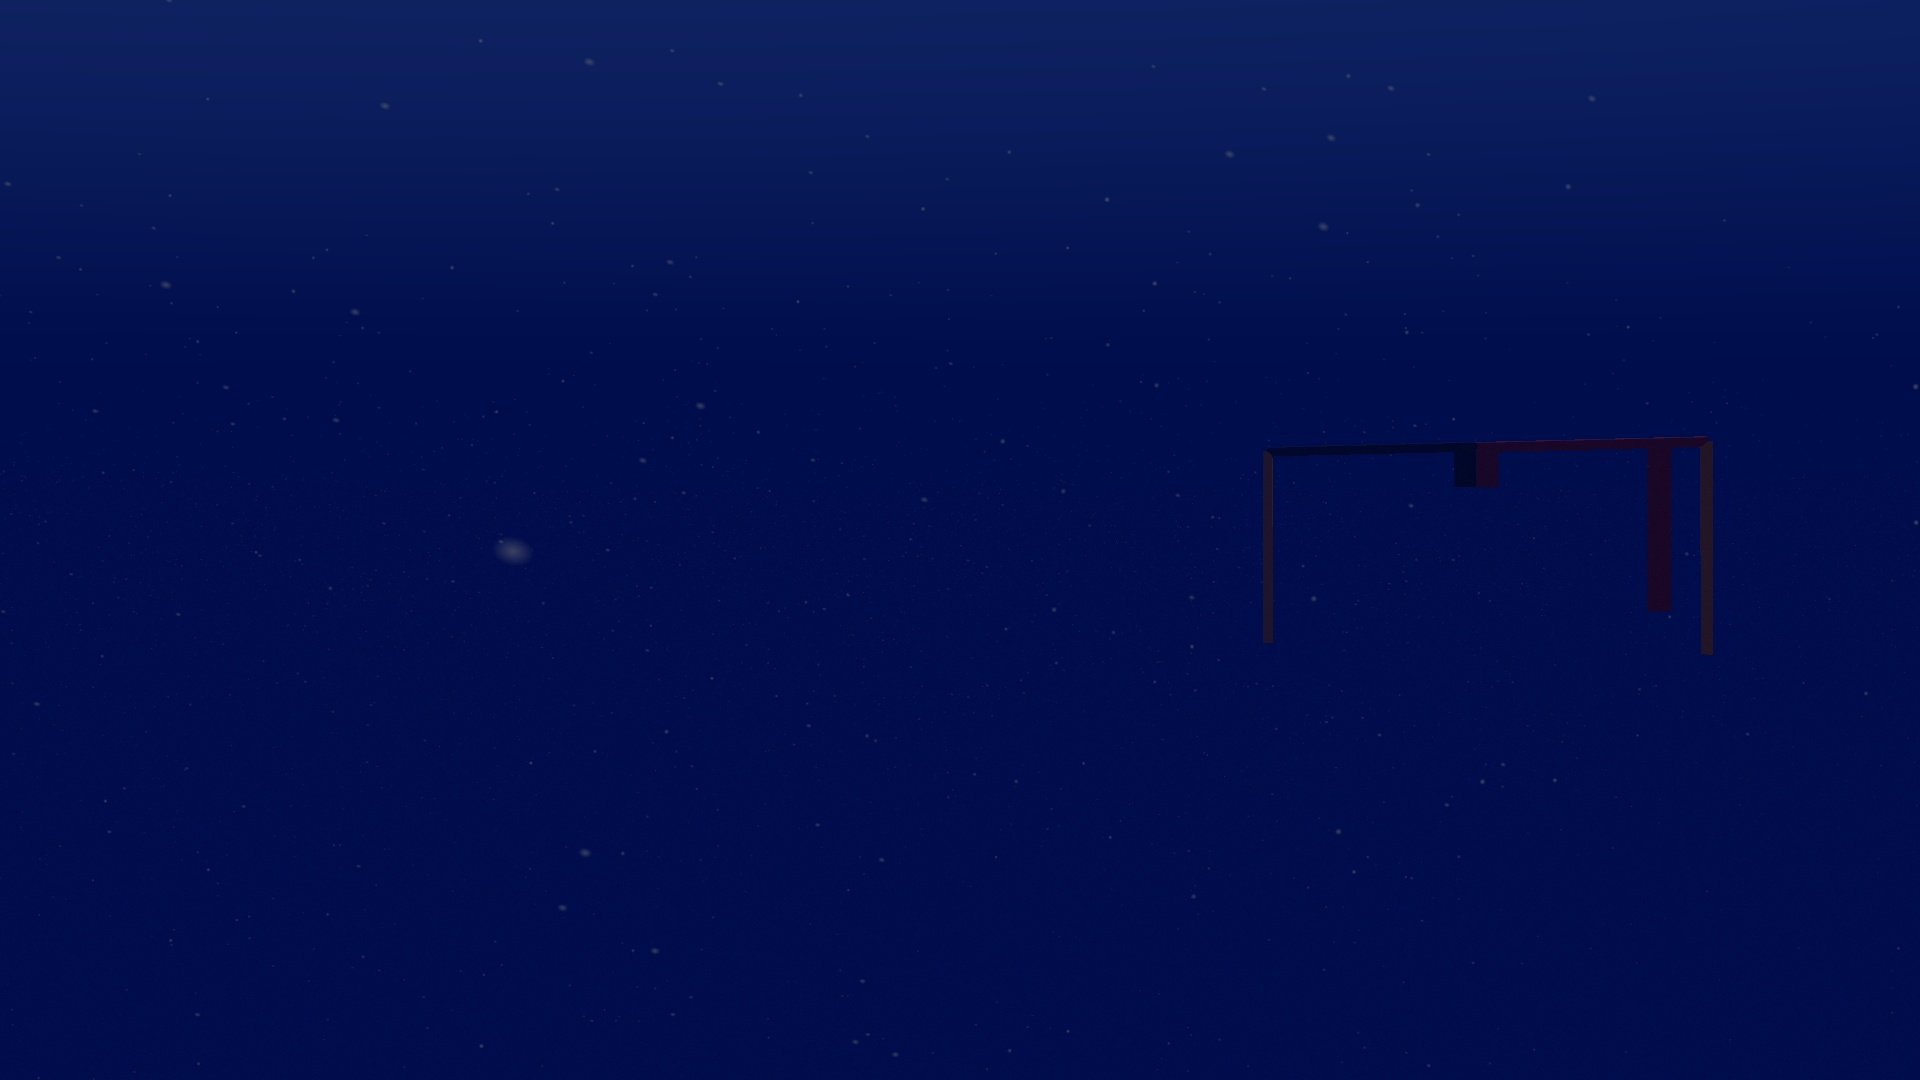Gate: (1257, 430, 1720, 673)
